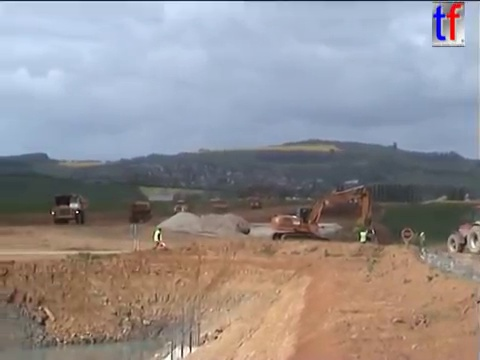excavator: (268, 182, 375, 246)
truck: (445, 205, 480, 254), (49, 191, 89, 224), (128, 200, 152, 224), (171, 198, 189, 215), (212, 198, 228, 215), (247, 198, 262, 209)
worker: (151, 226, 166, 252), (364, 224, 376, 247), (417, 229, 428, 251), (358, 226, 368, 247)
